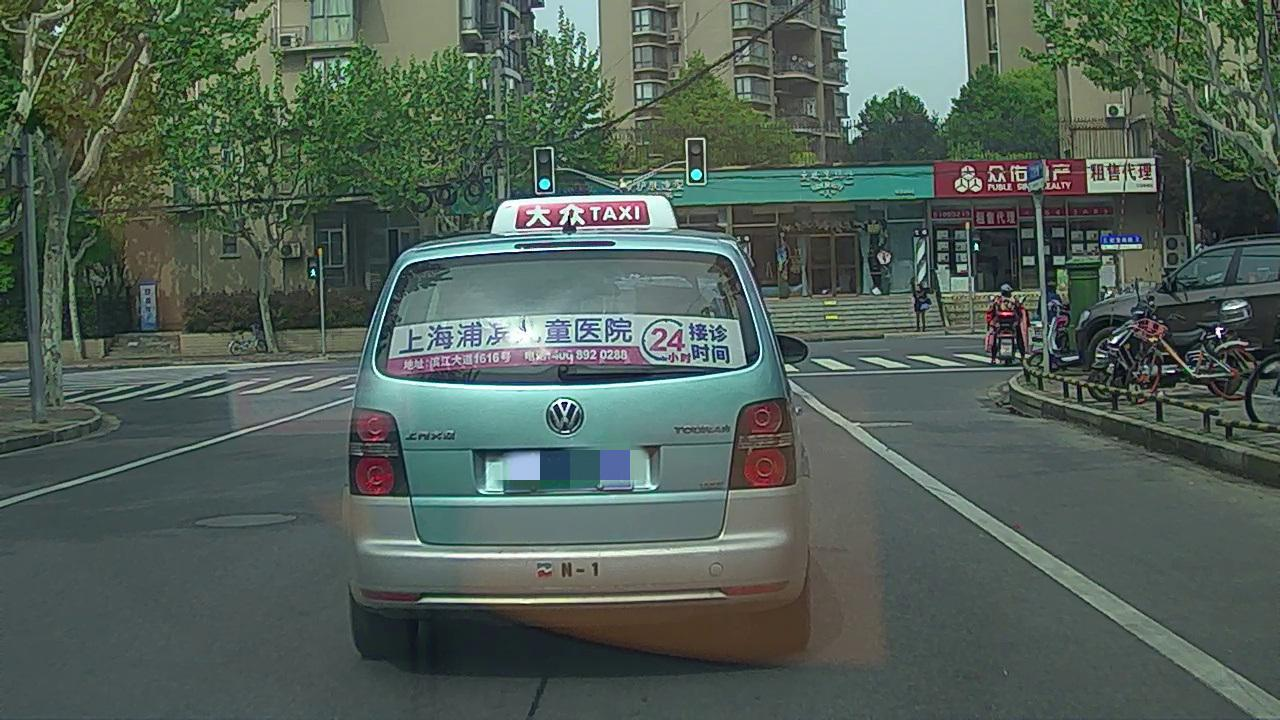traffic_light: (535, 150, 553, 193), (687, 140, 704, 184)
